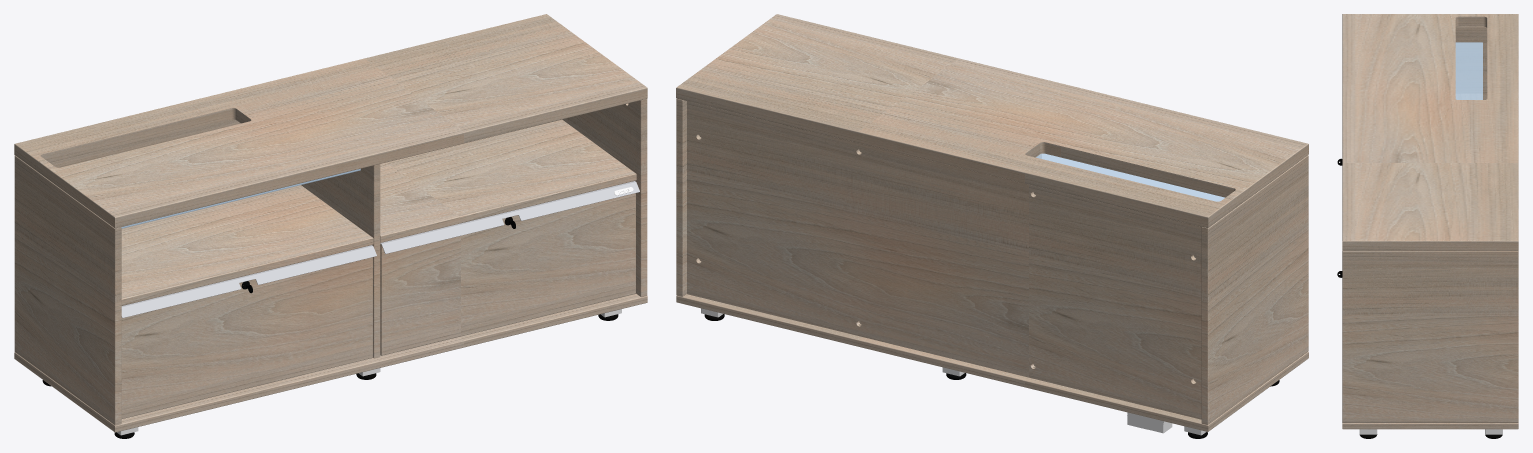
The model's file is LKAL160000_DER_150.glb.
3 renders of one model, left to right at view 1: azimuth 30°, elevation 25°; view 2: azimuth 150°, elevation 25°; view 3: azimuth 270°, elevation 25°, orthographic. The views are drawn at different scales.
Parts seen in each view (by area): view 1: 0 (×5), nodes[1]; view 2: nodes[1], 0 (×4); view 3: 0 (×4), nodes[1].
Boxes of the visible parts, bbox=[...] form: 0 (×5): bbox=[14, 14, 647, 432]; nodes[1]: bbox=[14, 100, 640, 424]; nodes[1]: bbox=[683, 100, 1308, 423]; 0 (×4): bbox=[676, 14, 1308, 431]; 0 (×4): bbox=[1342, 14, 1518, 429]; nodes[1]: bbox=[1343, 27, 1517, 422].
Size of the model in its own units: 1.53 by 0.643 by 0.5143.
Materials: 5 (1 with a texture image).
